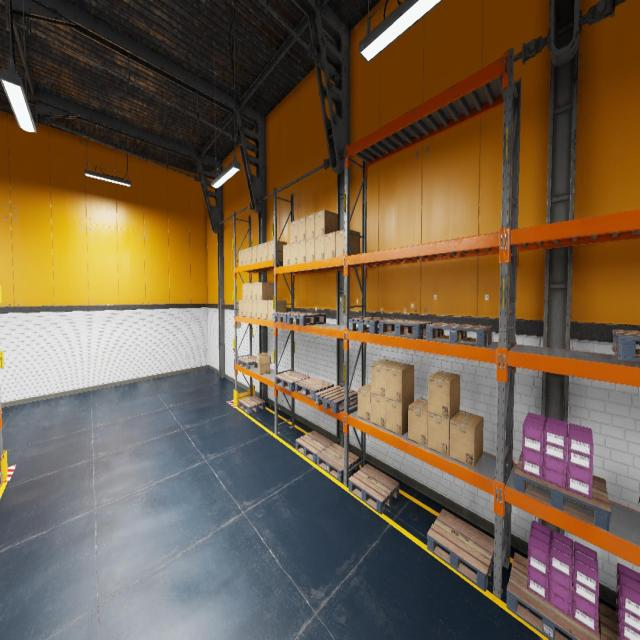box: (450, 410, 483, 468), (428, 371, 460, 419), (428, 410, 460, 456), (386, 362, 414, 403), (385, 396, 414, 435), (371, 359, 397, 397), (408, 398, 428, 447), (335, 230, 360, 258), (315, 209, 338, 237), (357, 383, 371, 422), (371, 393, 385, 428), (268, 240, 287, 260), (268, 300, 286, 320), (256, 282, 274, 300), (256, 353, 271, 374), (325, 232, 335, 259), (306, 213, 315, 239), (315, 235, 324, 260), (306, 238, 315, 262), (262, 300, 273, 319), (298, 216, 306, 241), (298, 240, 306, 263), (290, 219, 297, 244), (283, 243, 290, 266), (290, 242, 297, 264), (262, 242, 268, 261), (257, 243, 262, 262), (257, 300, 262, 318), (252, 300, 257, 318), (247, 300, 252, 317), (247, 283, 252, 300), (247, 247, 252, 264), (252, 245, 256, 263), (252, 283, 256, 300), (243, 283, 247, 300), (243, 248, 247, 265), (243, 300, 247, 316), (238, 300, 242, 316), (238, 250, 242, 266), (638, 496, 640, 503)
pallets: (506, 553, 600, 639), (514, 451, 611, 530), (427, 509, 494, 591), (349, 464, 399, 514), (316, 442, 359, 482), (426, 322, 492, 347), (296, 431, 334, 463), (315, 385, 357, 413), (378, 319, 436, 339), (612, 329, 640, 362), (294, 377, 334, 400), (348, 317, 396, 334), (275, 371, 310, 391), (599, 603, 618, 639), (238, 395, 266, 414), (287, 313, 326, 325), (272, 312, 306, 323), (237, 356, 257, 369), (0, 472, 2, 488)
